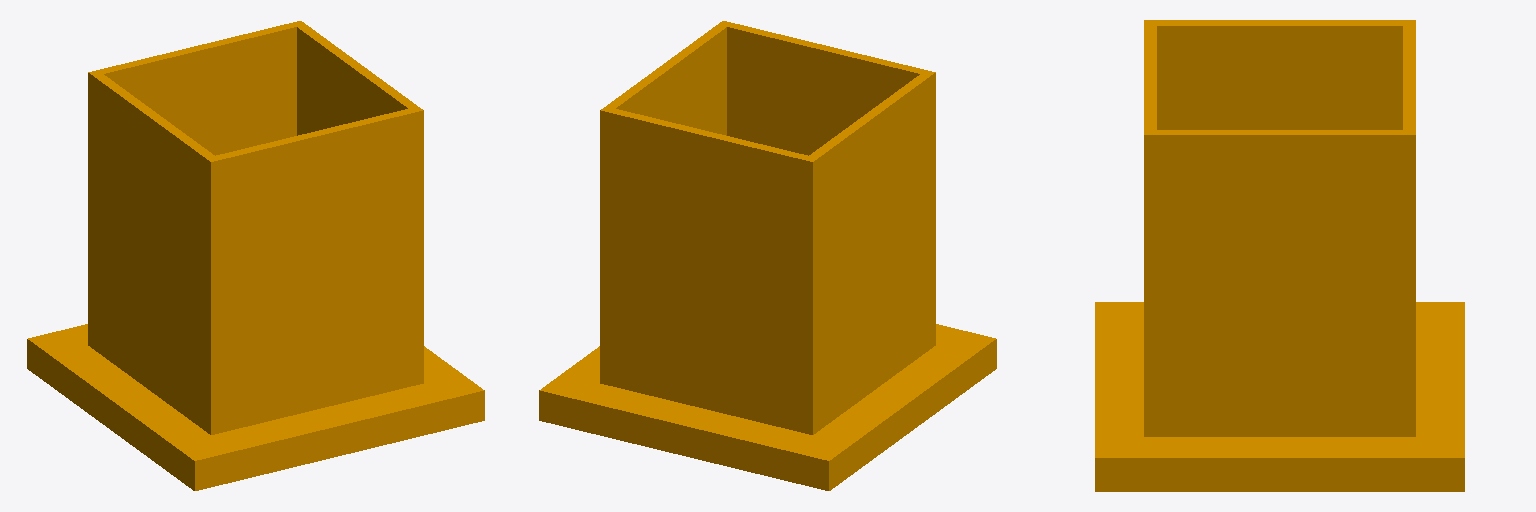
robot.urdf — box_hole_model:
<?xml version="1.0" ?>
<!-- =================================================================================== -->
<!-- |    This document was autogenerated by xacro from [local-path]/projects/personal_ws/src/birmingham_cell/birmingham_cell_description/urdf/box_hole.xacro | -->
<!-- |    EDITING THIS FILE BY HAND IS NOT RECOMMENDED                                 | -->
<!-- =================================================================================== -->
<robot name="box_hole_model">
  <link concave="yes" name="box_hole">
    <inertial>
      <mass value="0.390"/>
      <origin xyz="0 0 0"/>
      <inertia ixx="0.0005" ixy="0.0" ixz="0.0" iyy="0.0005" iyz="0.0" izz="0.0005"/>
    </inertial>
    <visual>
      <origin rpy="0 0 0" xyz="0 0 0"/>
      <geometry>
        <mesh filename="package://birmingham_cell_description/meshes/Box_hole.STL" scale="0.04 0.04 0.06"/>
      </geometry>
    </visual>
    <collision concave="yes">
      <origin rpy="0 0 0" xyz="0 0 0"/>
      <geometry>
        <mesh filename="package://birmingham_cell_description/meshes/Box_hole.STL" scale="0.04 0.04 0.06"/>
      </geometry>
    </collision>
  </link>
</robot>

--- What the picture shows (computed from the rendered views, not written in the file) ---
The picture shows the robot from 3 angles, left to right: view 1: azimuth 30°, elevation 25°; view 2: azimuth 150°, elevation 25°; view 3: azimuth 270°, elevation 25°; orthographic projection.
Robot: box_hole_model — 1 links, 0 joints (none); root link box_hole; default pose: all joints at 0.
Links seen in each view (by area): view 1: box_hole; view 2: box_hole; view 3: box_hole.
Link boxes in pixels (x1,y1,x2,y2): box_hole: [27, 21, 484, 490]; box_hole: [539, 21, 996, 490]; box_hole: [1095, 20, 1464, 491].
Size in the robot's own frame: 0.06 by 0.06 by 0.06 metres.
Meshes: 1 distinct files referenced, 1 mesh visuals loaded (1 binary STL).
